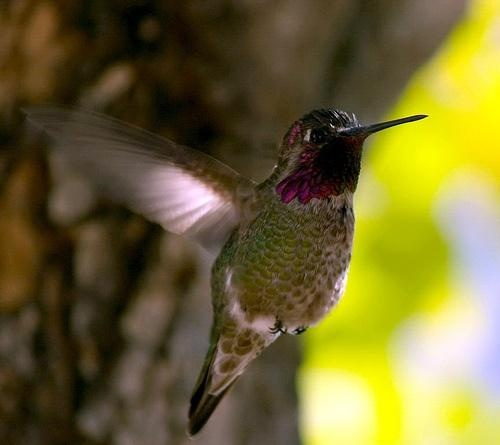bird: (23, 86, 434, 436)
